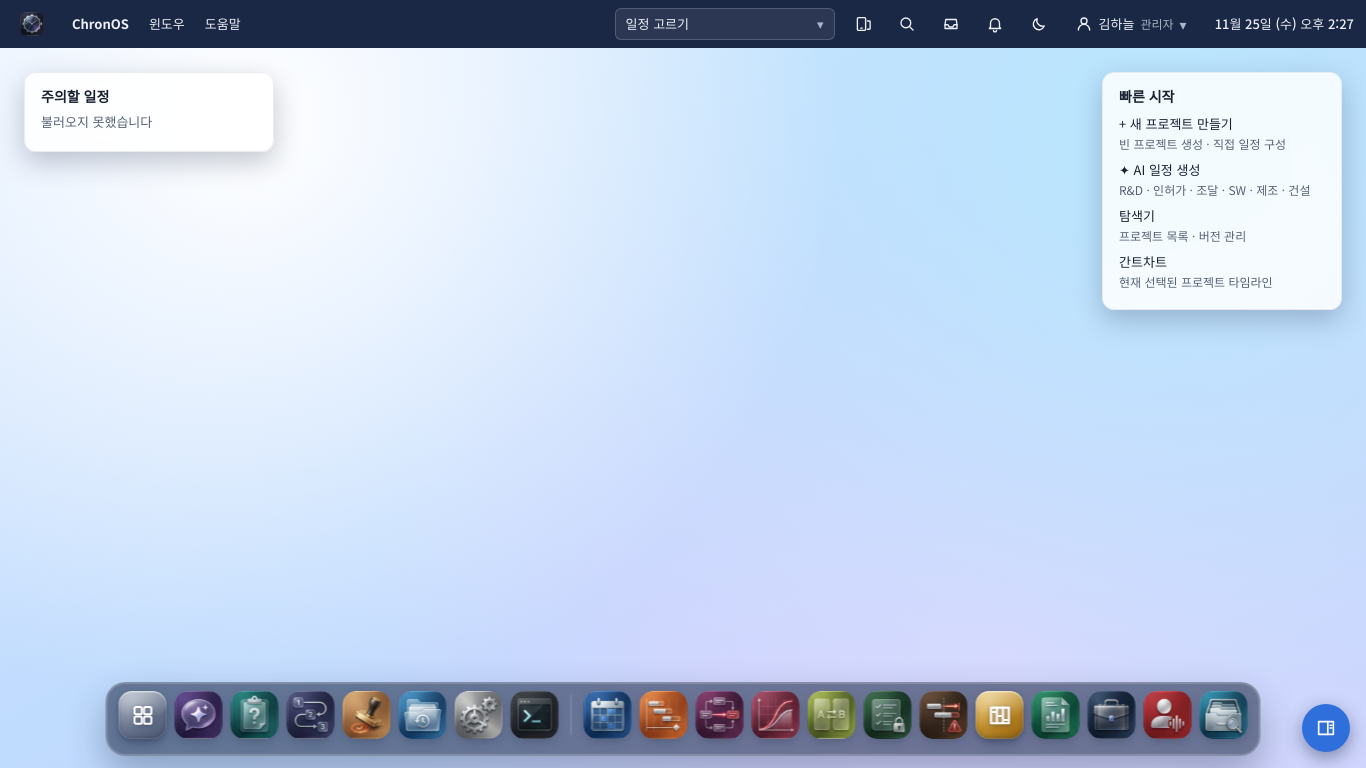
Test case: site selector lists schedules with a search box and sets the current schedule
Click the button "일정 고르기 ▾" at x=725, y=24, box [615, 8, 835, 40]
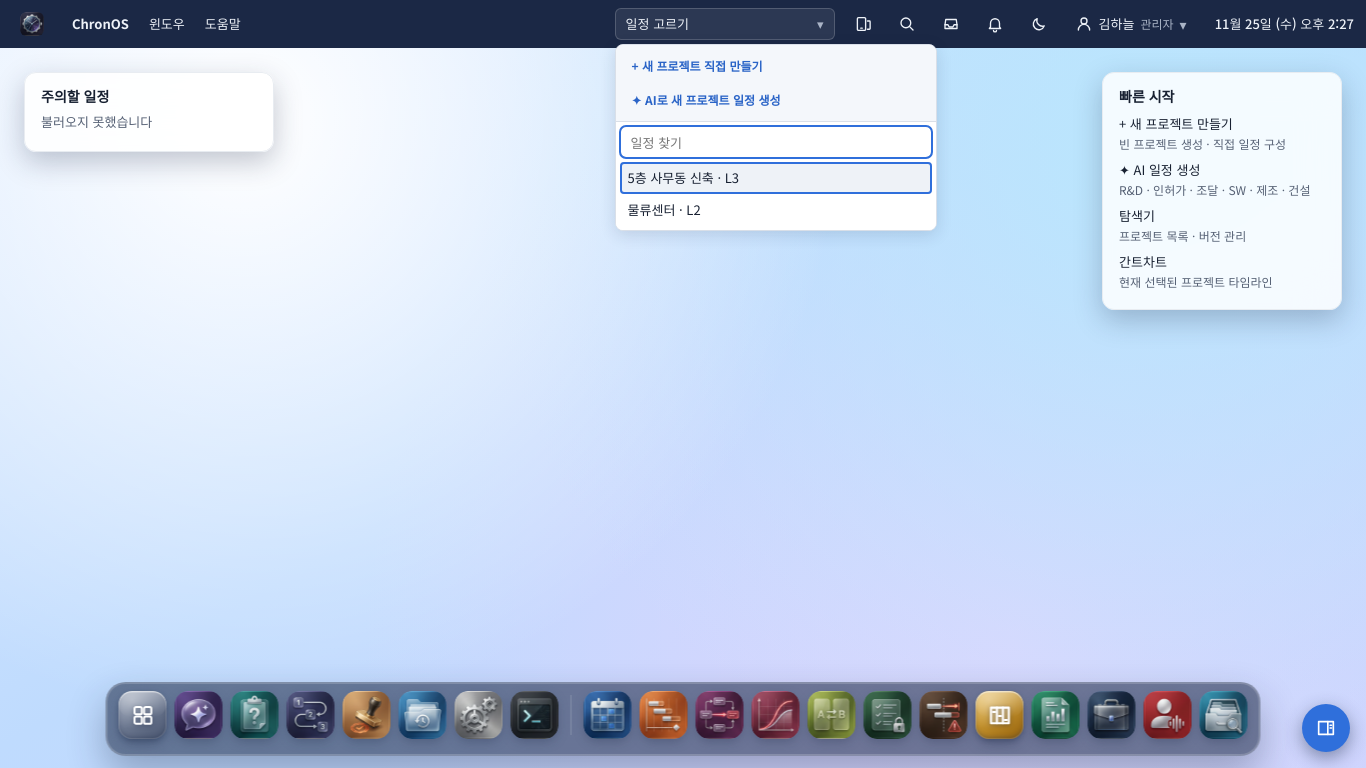
Now the number of options is 2, box [620, 162, 932, 194]; [628, 200, 701, 219]
Type "물류" into the dropdown labelled "일정 찾기" at x=776, y=142, box [620, 126, 932, 158]
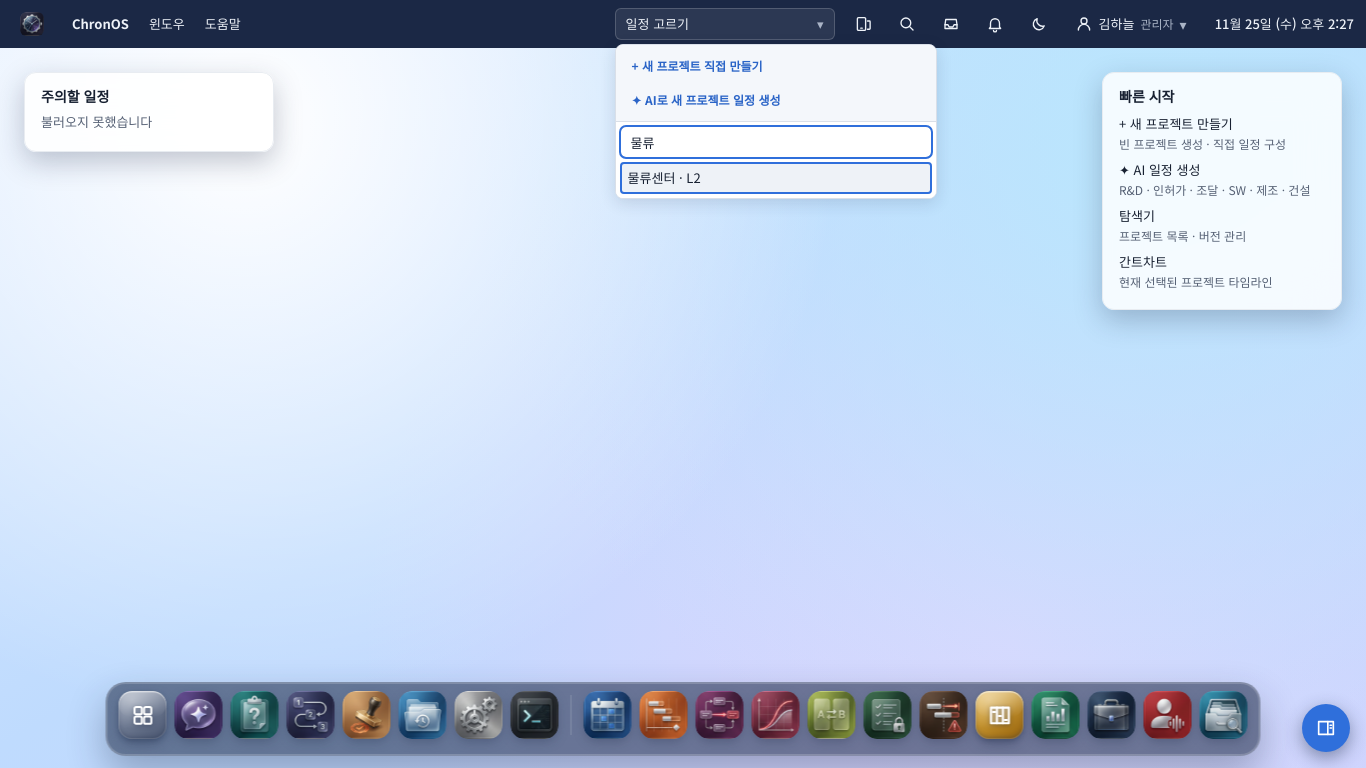
Now the options read "물류센터 · L2", in this order, box [620, 162, 932, 194]
Press Enter in the dropdown named "일정 찾기", box [620, 126, 932, 158]
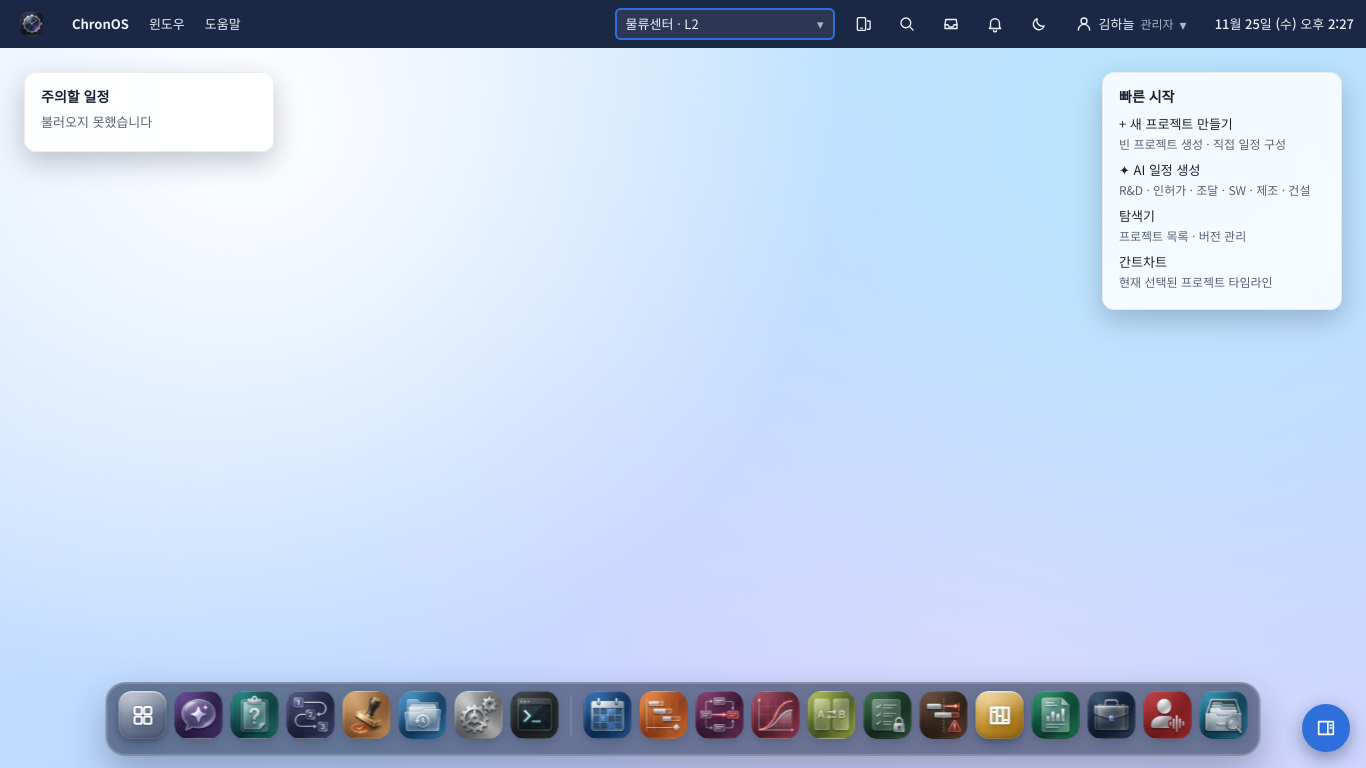
Now the button "물류센터 · L2 ▾" is shown, box [615, 8, 835, 40]
